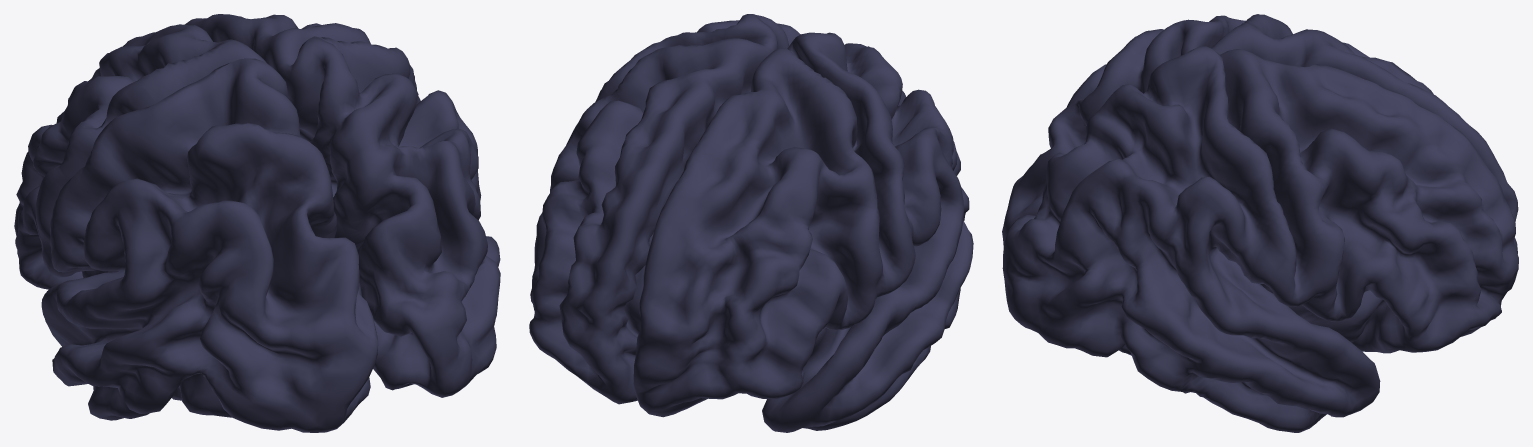
The model's file is brain-base.glb.
3 views of the same model, side by side, from view 1: azimuth 30°, elevation 25°; view 2: azimuth 150°, elevation 25°; view 3: azimuth 270°, elevation 25° (orthographic). The views are drawn at different scales.
Parts seen in each view (by area): view 1: Brain; view 2: Brain; view 3: Brain.
Boxes of the visible parts, x1,y1,x2,y2 form: Brain: [14, 14, 500, 432]; Brain: [529, 14, 973, 432]; Brain: [1002, 14, 1518, 432].
Size of the model in its own units: 1.59 by 1.47 by 2.
